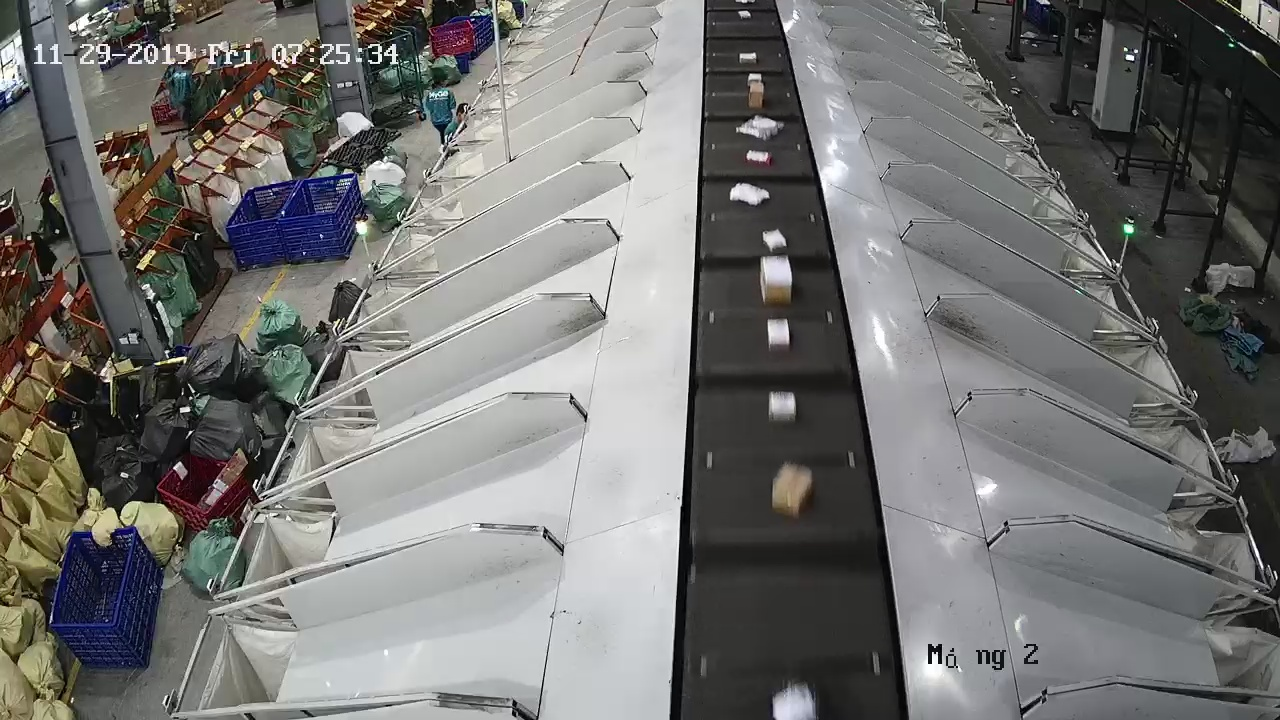parcel: (772, 462, 815, 521), (768, 391, 797, 423), (729, 182, 770, 204), (767, 318, 790, 351)
